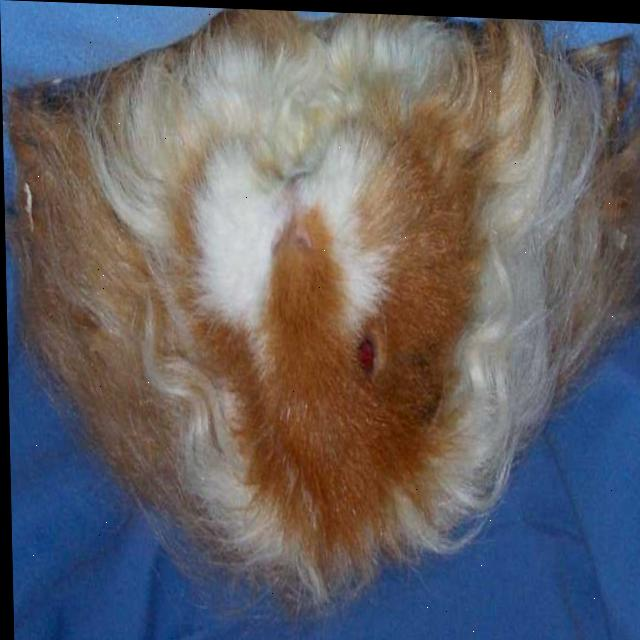guinea pig: (7, 8, 640, 599)
